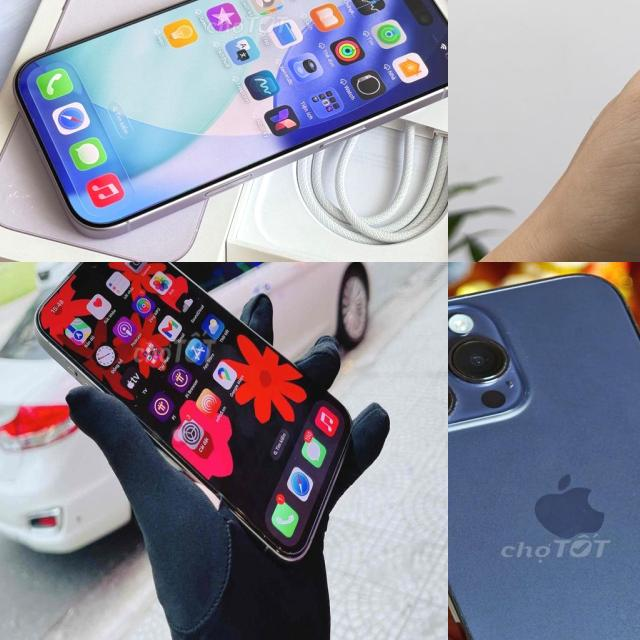gen_14: (448, 271, 640, 640)
gen_15: (30, 262, 356, 568)
gen_17: (272, 80, 273, 82)
